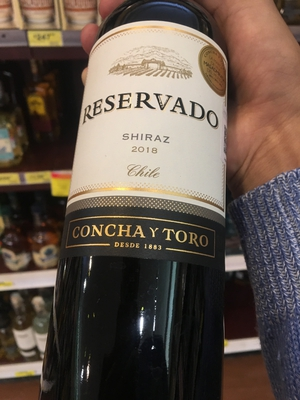reservado shiraz: (63, 4, 230, 399)
